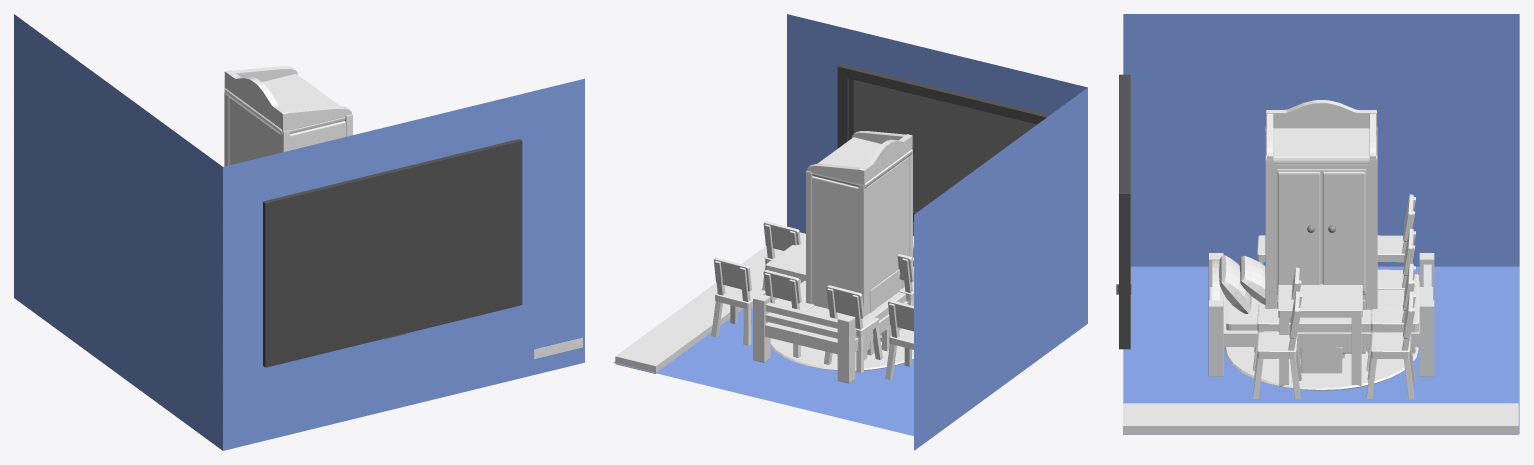
Rendered from simple_theater.glb.
3 renders of one model, left to right at view 1: azimuth 30°, elevation 25°; view 2: azimuth 150°, elevation 25°; view 3: azimuth 270°, elevation 25°, orthographic. The views are drawn at different scales.
Parts seen in each view (by area): view 1: Wall, PC 1, Wardrobe; view 2: Wall, Wardrobe, PC 1, Floor, Bed, Wood floor 1, Wood floor, Chair 1.005, Chair 1.007, Carpet, Chair 1.008, Table (+3 smaller); view 3: Wall, Floor, Wardrobe, Bed, Wood floor, Wood floor 1, Table, PC 1, Carpet, Chair 1.005, Chair 1.001, Chair 1.006 (+4 smaller).
Boxes of the visible parts, x1,y1,x2,y2 form: Wall: [14, 14, 584, 450]; PC 1: [263, 139, 522, 367]; Wardrobe: [224, 66, 352, 166]; Wall: [787, 14, 1087, 450]; Wardrobe: [806, 131, 912, 360]; PC 1: [837, 64, 1049, 221]; Floor: [613, 307, 913, 435]; Bed: [753, 236, 913, 383]; Wood floor 1: [615, 232, 805, 373]; Wood floor: [618, 235, 805, 359]; Chair 1.005: [711, 257, 765, 345]; Chair 1.007: [824, 285, 882, 373]; Carpet: [770, 338, 913, 371]; Chair 1.008: [885, 300, 913, 379]; Table: [765, 238, 904, 355]; Wall: [1123, 14, 1519, 266]; Floor: [1123, 266, 1519, 434]; Wardrobe: [1265, 100, 1377, 353]; Bed: [1208, 253, 1434, 376]; Wood floor: [1127, 403, 1513, 425]; Wood floor 1: [1123, 403, 1518, 434]; Table: [1278, 284, 1362, 386]; PC 1: [1116, 74, 1131, 349]; Carpet: [1224, 347, 1418, 390]; Chair 1.005: [1366, 291, 1415, 399]; Chair 1.001: [1253, 291, 1302, 399]; Chair 1.006: [1366, 263, 1415, 371].
Bounding box in the file's own units: 8 × 6.25 × 8.14.
